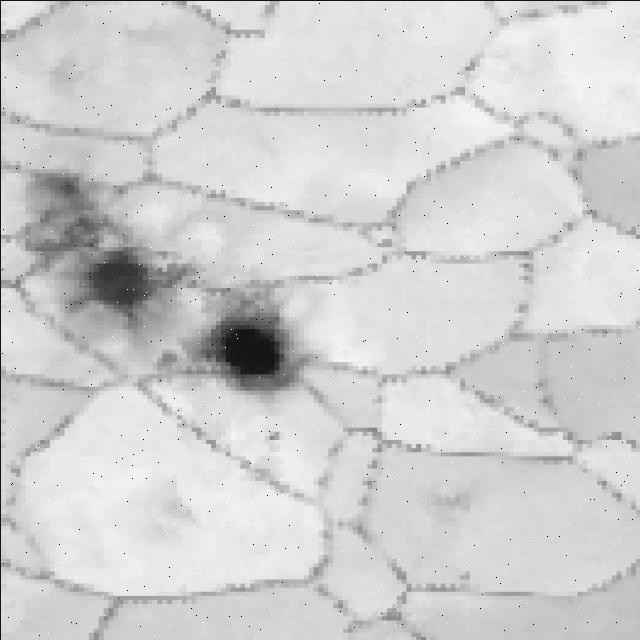good_void: (3, 156, 196, 336), (186, 265, 324, 393), (68, 468, 197, 569), (414, 469, 489, 549), (153, 339, 183, 375), (264, 424, 290, 444)
